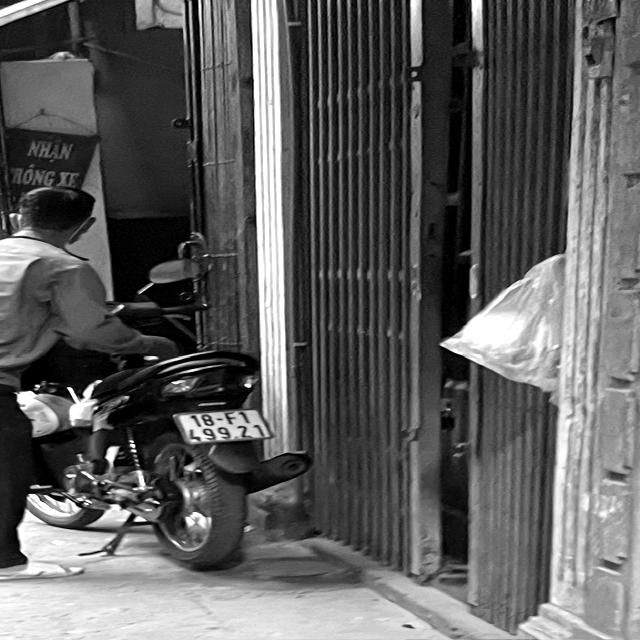license_plate: (137, 400, 288, 455)
